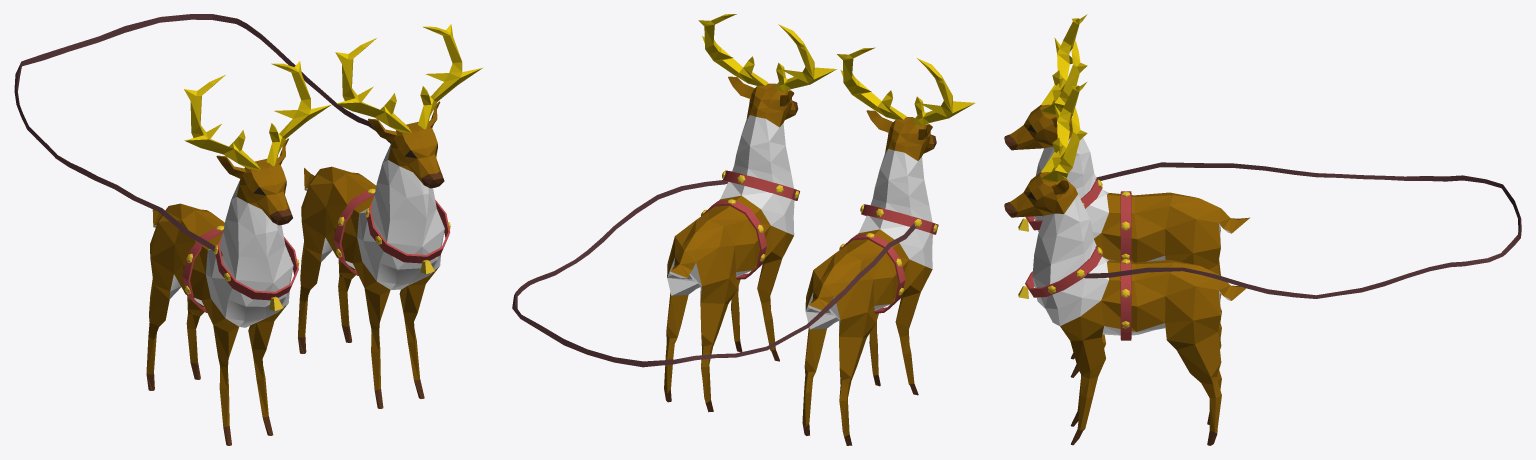
File: Santa_Claus_deer.fbx
3 renders of one model, left to right at view 1: azimuth 30°, elevation 25°; view 2: azimuth 150°, elevation 25°; view 3: azimuth 270°, elevation 25°, orthographic. The views are drawn at different scales.
Parts seen in each view (by area): view 1: Santa_Claus_deer; view 2: Santa_Claus_deer; view 3: Santa_Claus_deer.
Boxes of the visible parts, x1,y1,x2,y2 form: Santa_Claus_deer: [14, 14, 482, 445]; Santa_Claus_deer: [512, 14, 974, 445]; Santa_Claus_deer: [1004, 14, 1521, 445].
Bounding box in the file's own units: 205 × 242 × 337.
